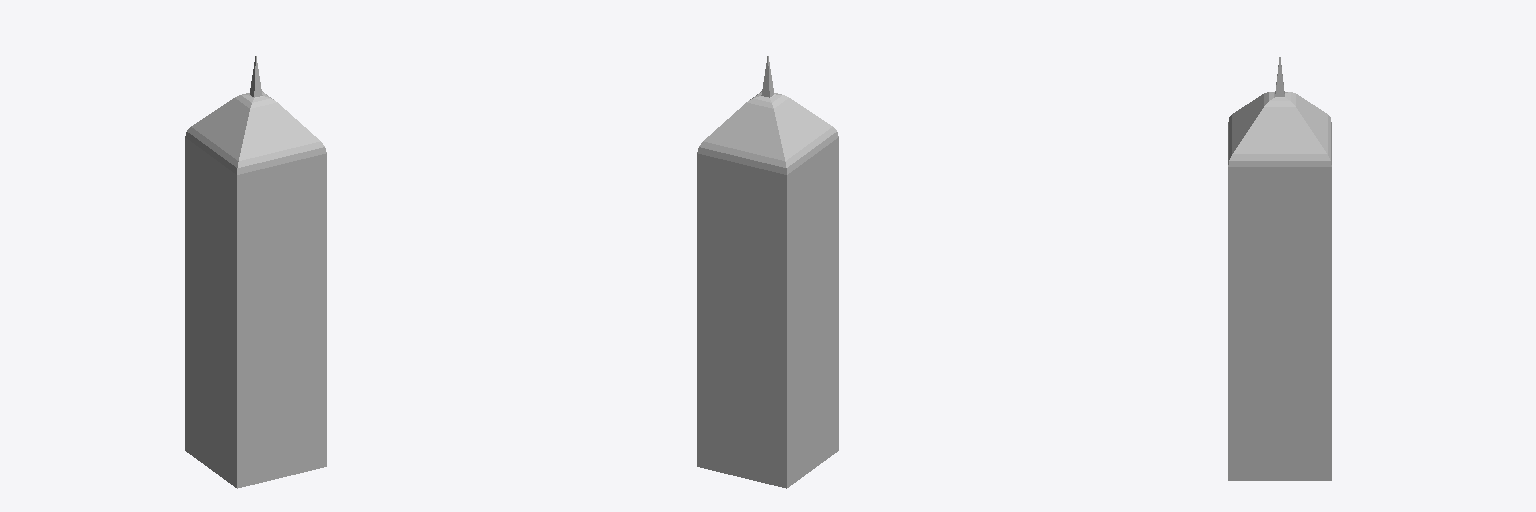
The model's file is firstbuilding.obj.
3 renders of one model, left to right at view 1: azimuth 30°, elevation 25°; view 2: azimuth 150°, elevation 25°; view 3: azimuth 270°, elevation 25°, orthographic.
Bounding box in the file's own units: 4.6 × 19.85 × 4.6.